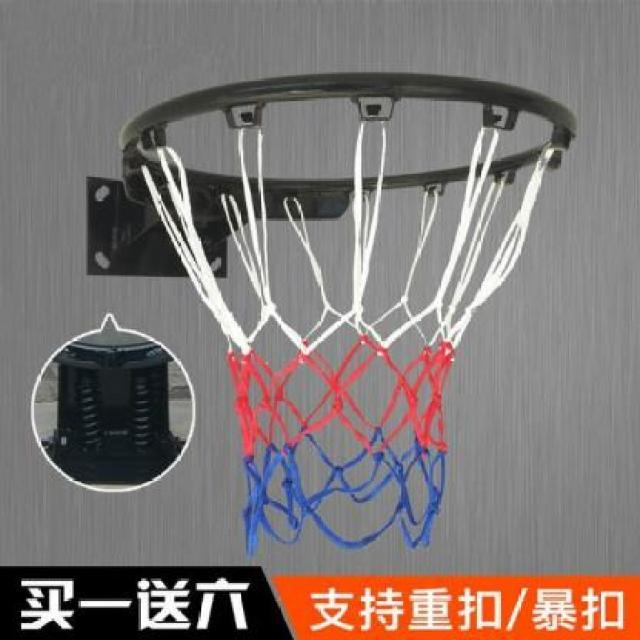rim: (123, 72, 574, 546)
